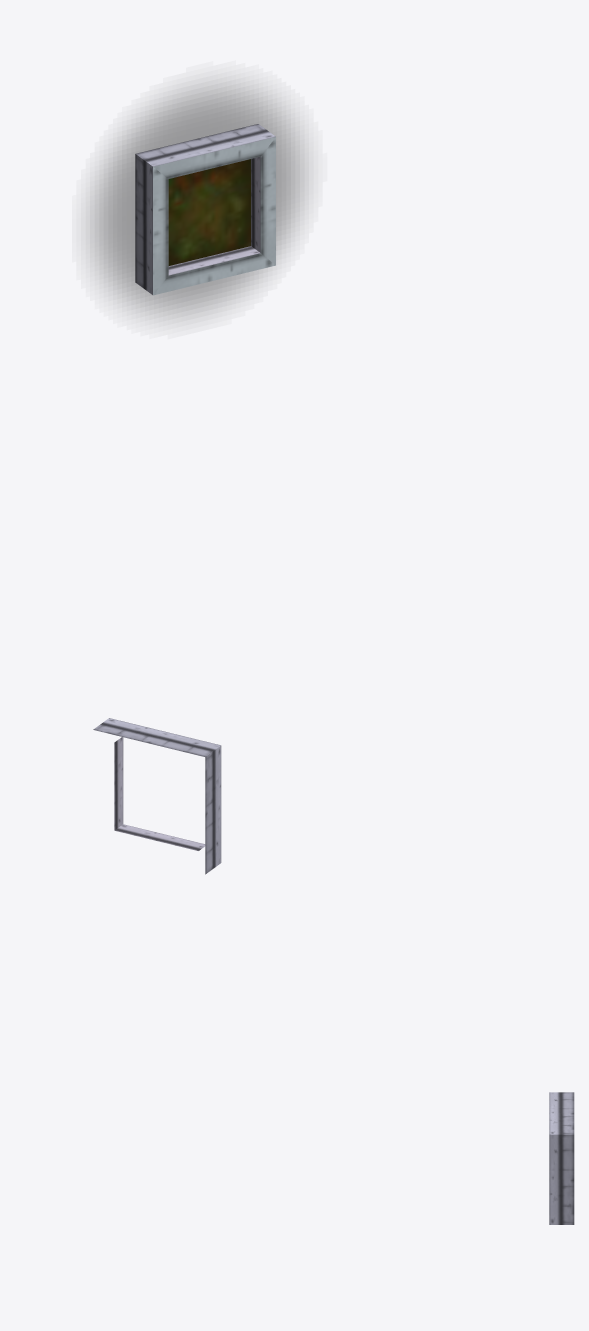
File: prop_snow_tree_large_brickbox_ur.glb
3 renders of one model, top to bottom at view 1: azimuth 30°, elevation 25°; view 2: azimuth 150°, elevation 25°; view 3: azimuth 270°, elevation 25°, orthographic. The views are drawn at different scales.
Visible parts, largest first — view 1: tree_box_planter_bricks_1, shadow_snow_tree_large_brickbox_ur; view 2: tree_box_planter_bricks_1; view 3: tree_box_planter_bricks_1.
Boxes of the visible parts, box(x1,y1,x2,y2) form: tree_box_planter_bricks_1: box(135, 124, 275, 295); shadow_snow_tree_large_brickbox_ur: box(90, 82, 304, 318); tree_box_planter_bricks_1: box(93, 718, 221, 874); tree_box_planter_bricks_1: box(549, 1092, 574, 1224).
Bounding box in the file's own units: 13.99 × 12.32 × 29.17.
Materials: 4 (4 with a texture image).
